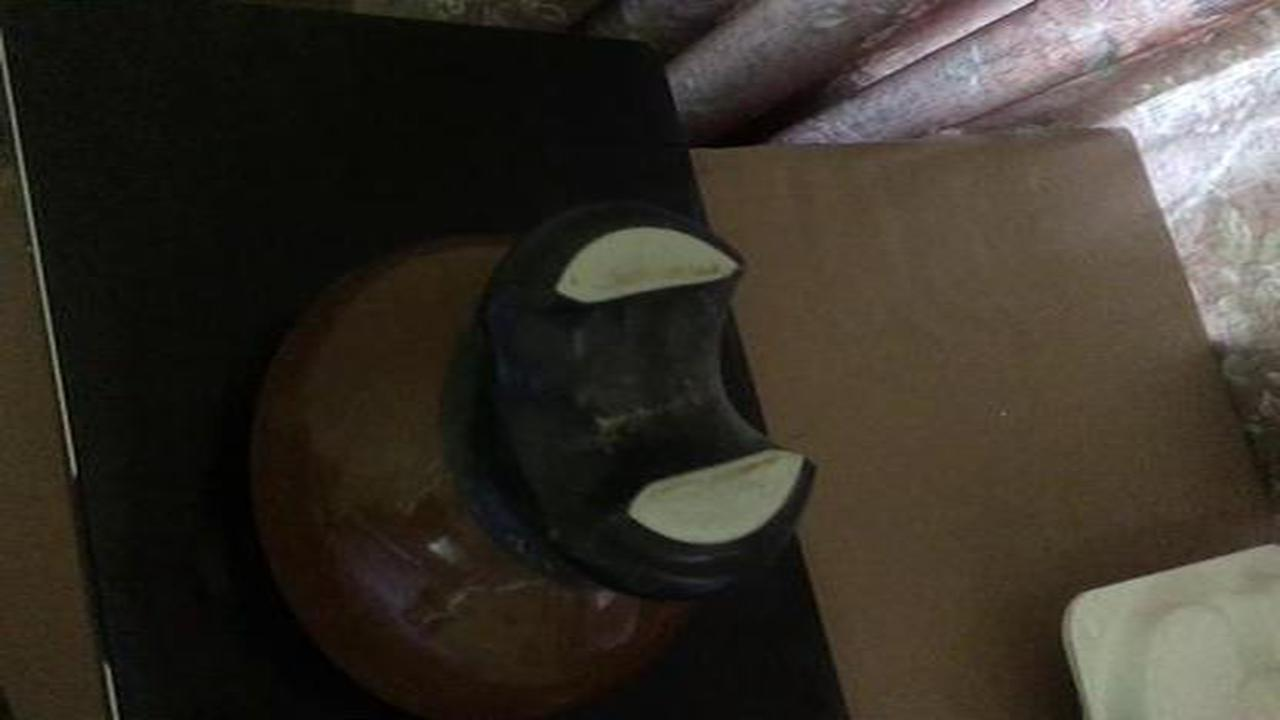insulator_pin: (222, 184, 837, 720)
